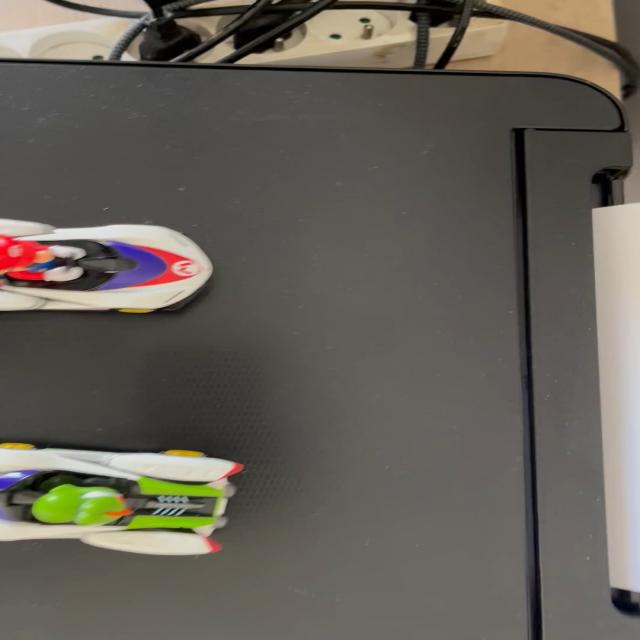mario: (0, 215, 235, 322)
yoshi: (3, 423, 269, 572)
